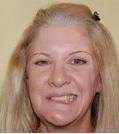strokeEyeMid: (30, 50, 92, 69)
strokeMouthMid: (43, 89, 82, 106)
